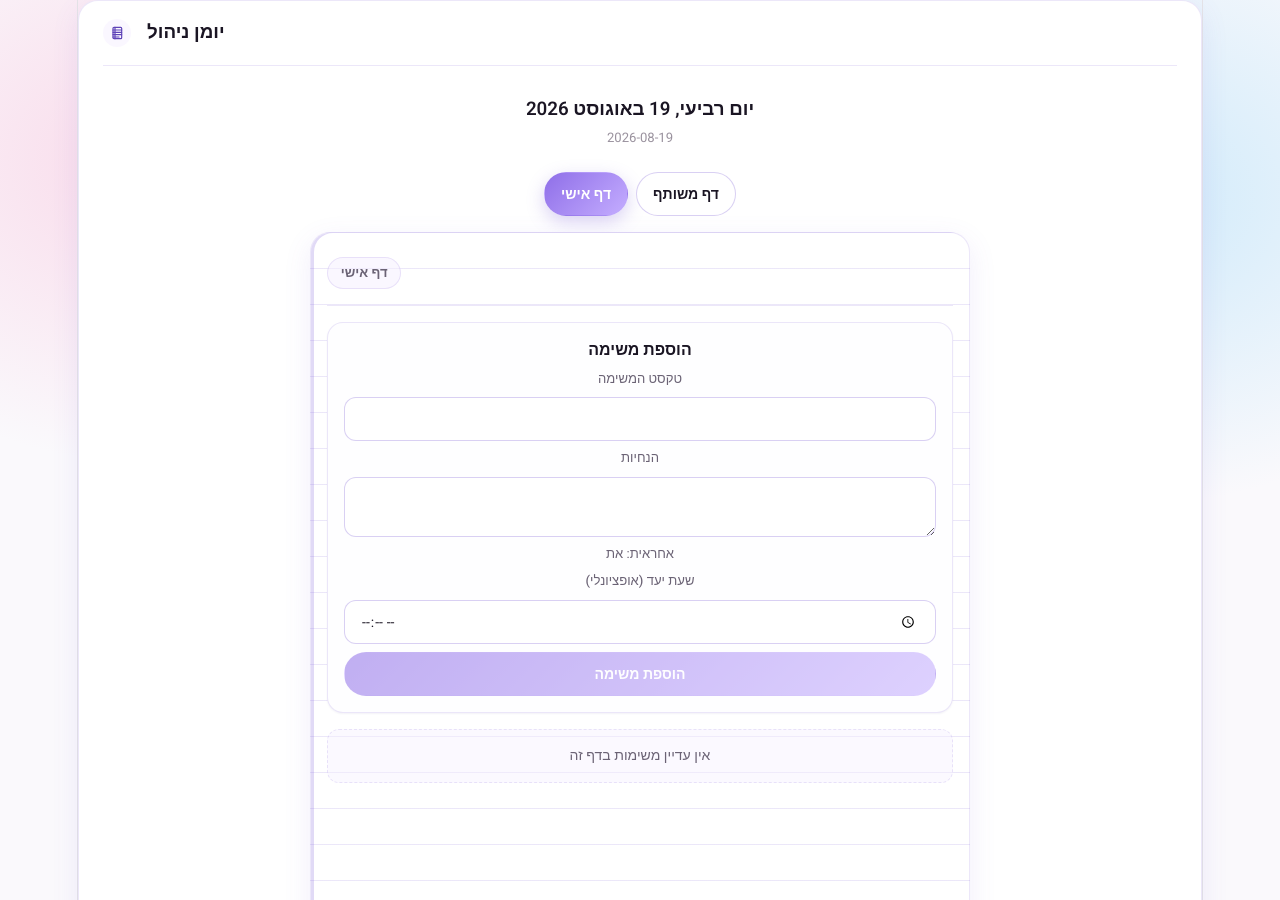
Test: ManagementJournalSection J2B task workflow › switches to read-only when a mutation returns journal_page_frozen
Expected: the form with test id "journal-add-task-composer" is shown, [327,322,953,713]
Type "משימה" into the field labelled "טקסט המשימה".
click(640, 420); type("משימה")  # box [344,398,936,442]
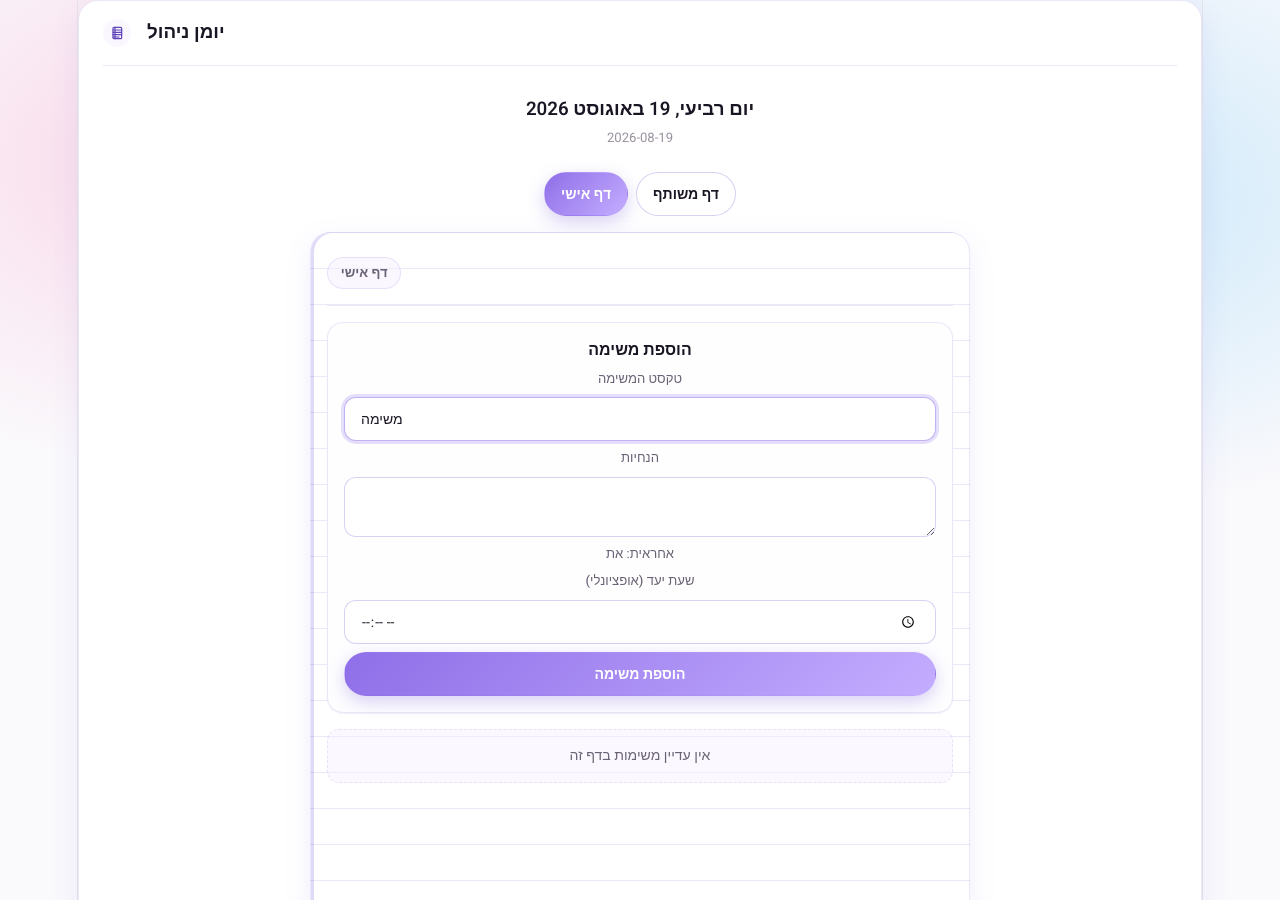
Click the button "הוספת משימה".
click(640, 674)  # box [344,652,936,696]
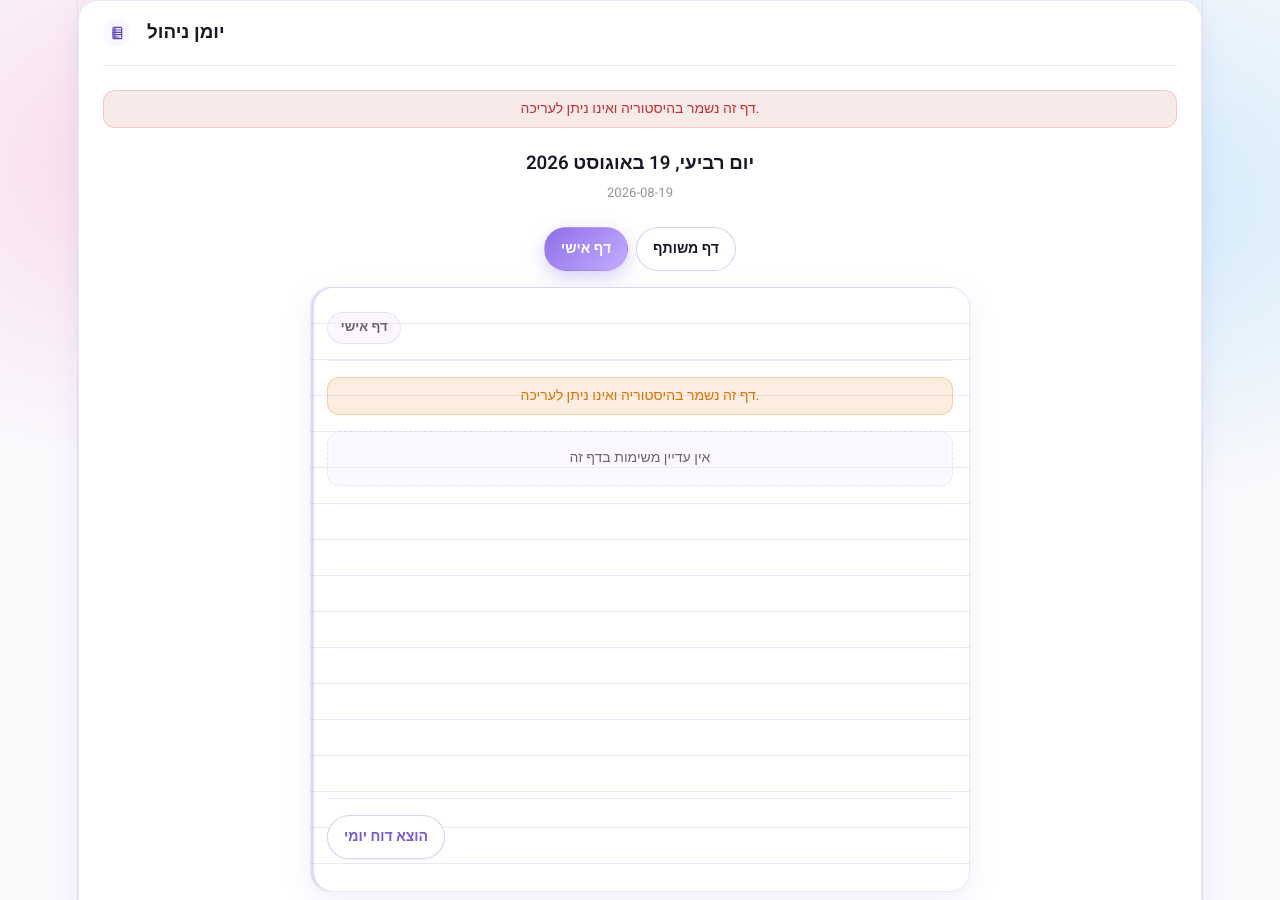
Expected: the message with test id "journal-frozen-banner" is shown, [327,377,953,415]
Expected: the form with test id "journal-add-task-composer" is gone
